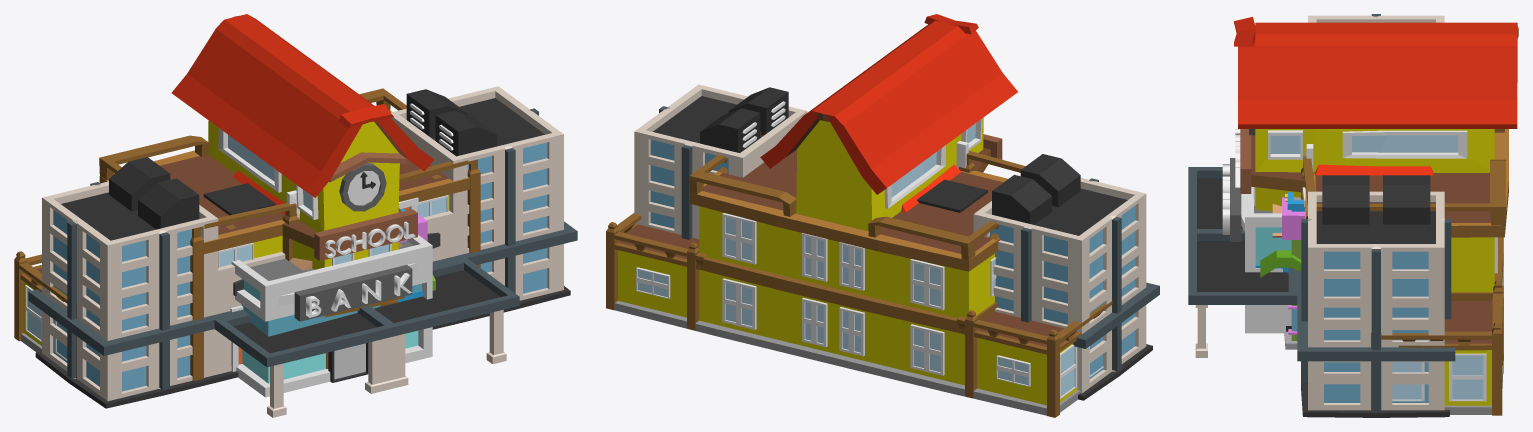
File: Buildings.fbx
3 renders of one model, left to right at view 1: azimuth 30°, elevation 25°; view 2: azimuth 150°, elevation 25°; view 3: azimuth 270°, elevation 25°, orthographic. The views are drawn at different scales.
Parts seen in each view (by area): view 1: Hospital.001, School.001, Bank.003, Restaurant.001; view 2: School.001, Hospital.001, PostOffice.001; view 3: School.001, Hospital.001, Bank.003, House.002, PostOffice.001, Restaurant.001, Police.001.
Part boxes in pixels (<box>): Hospital.001: <box>28,86,577,417</box>; School.001: <box>14,14,480,380</box>; Bank.003: <box>231,235,432,397</box>; Restaurant.001: <box>230,197,435,371</box>; School.001: <box>606,14,1112,417</box>; Hospital.001: <box>634,84,1159,400</box>; PostOffice.001: <box>901,164,961,212</box>; School.001: <box>1234,17,1518,415</box>; Hospital.001: <box>1188,14,1455,417</box>; Bank.003: <box>1222,158,1291,333</box>; House.002: <box>1282,197,1305,349</box>; PostOffice.001: <box>1315,164,1433,175</box>; Restaurant.001: <box>1260,187,1305,277</box>; Police.001: <box>1255,192,1305,331</box>.
Bounding box in the file's own units: 53.29 × 30.89 × 29.18.
